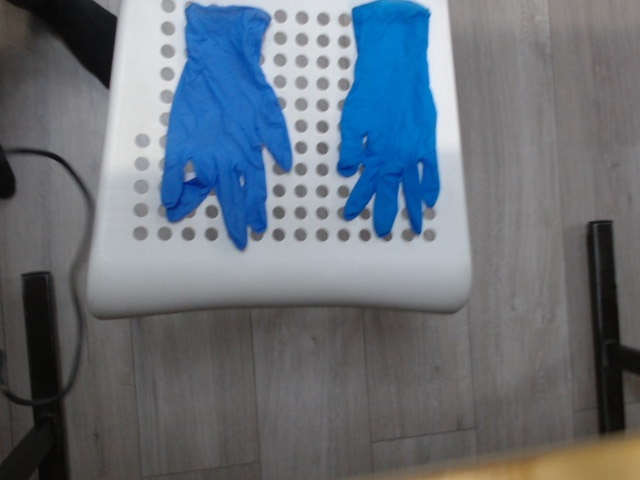medical_glove: (161, 5, 293, 248), (339, 1, 442, 235)
